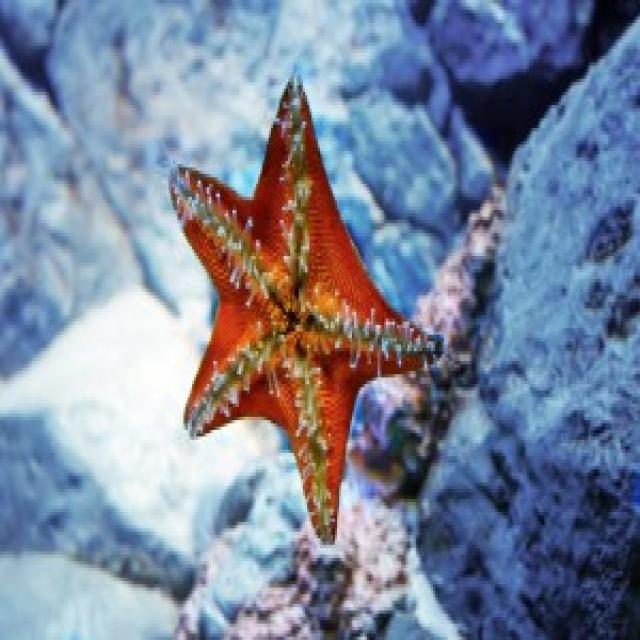Starfish: (142, 50, 458, 553)
